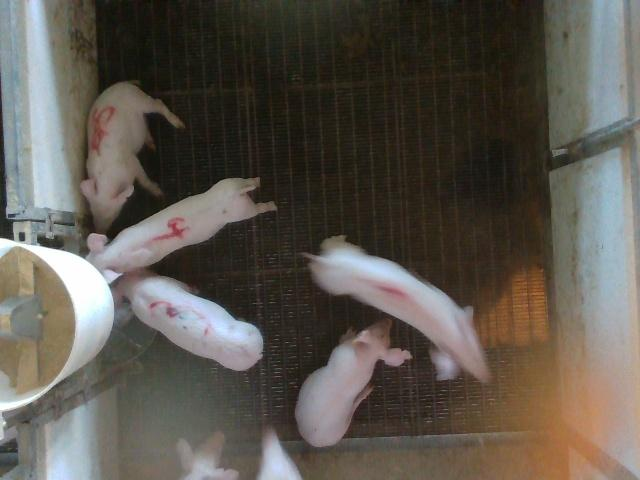pig-1: (305, 236, 489, 381)
pig-3: (116, 270, 262, 371)
pig-4: (86, 178, 276, 282)
pig-5: (80, 81, 184, 232)
